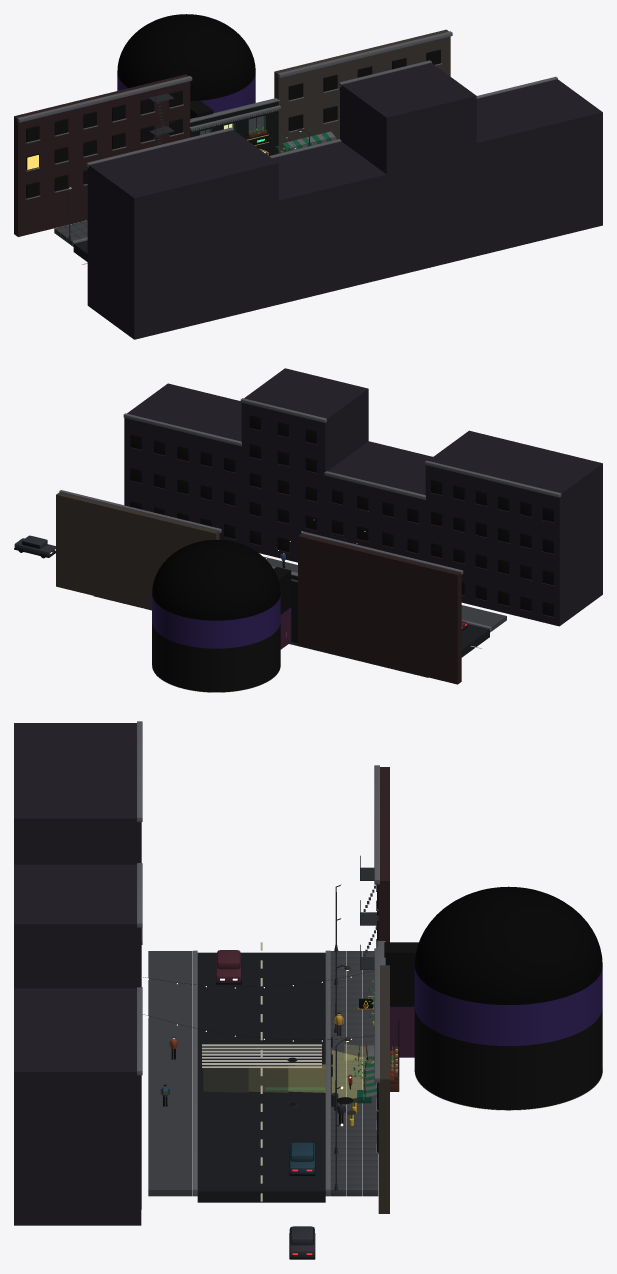
File: shop.glb
3 renders of one model, top to bottom at view 1: azimuth 30°, elevation 25°; view 2: azimuth 150°, elevation 25°; view 3: azimuth 270°, elevation 25°, orthographic. The views are drawn at different scales.
Visible parts, largest first — view 1: opposite, neighbour_left, neighbour_right, dome_outer, facade_upper, rotunda_wall, street; view 2: opposite, neighbour_left, neighbour_right, rotunda_wall, dome_outer, street, passage, car_2; view 3: opposite, street, rotunda_wall, dome_outer, neighbour_right, neighbour_left, passage, crossing, light_pools, street_furniture, car_2, car_1 (+1 smaller).
Part boxes in pixels (box(x1,y1,x2,y2)): opposite: box(86, 60, 602, 339); neighbour_left: box(14, 74, 192, 236); neighbour_right: box(274, 29, 452, 153); dome_outer: box(117, 14, 255, 101); facade_upper: box(189, 98, 280, 138); rotunda_wall: box(117, 74, 255, 113); street: box(54, 220, 87, 264); opposite: box(123, 368, 602, 626); neighbour_left: box(298, 531, 463, 684); neighbour_right: box(56, 490, 221, 609); rotunda_wall: box(152, 594, 280, 692); dome_outer: box(152, 539, 280, 620); street: box(94, 556, 506, 677); passage: box(273, 567, 291, 649); car_2: box(14, 535, 55, 558); opposite: box(14, 721, 142, 1225); street: box(148, 942, 378, 1202); rotunda_wall: box(414, 967, 602, 1110); dome_outer: box(414, 886, 602, 1004); neighbour_right: box(347, 963, 389, 1213); neighbour_left: box(360, 765, 389, 970); passage: box(384, 942, 418, 1057); crossing: box(202, 1044, 321, 1067); light_pools: box(265, 1050, 373, 1098); street_furniture: box(331, 965, 374, 1110); car_2: box(289, 1226, 315, 1259); car_1: box(216, 950, 241, 984).
Bounding box in the file's own units: 58.18 × 18.1 × 41.67.
